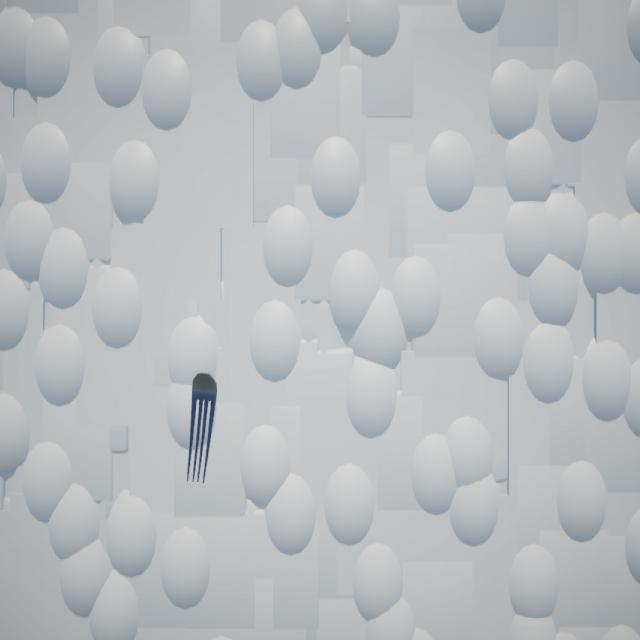top_folk: (188, 374, 218, 484)
